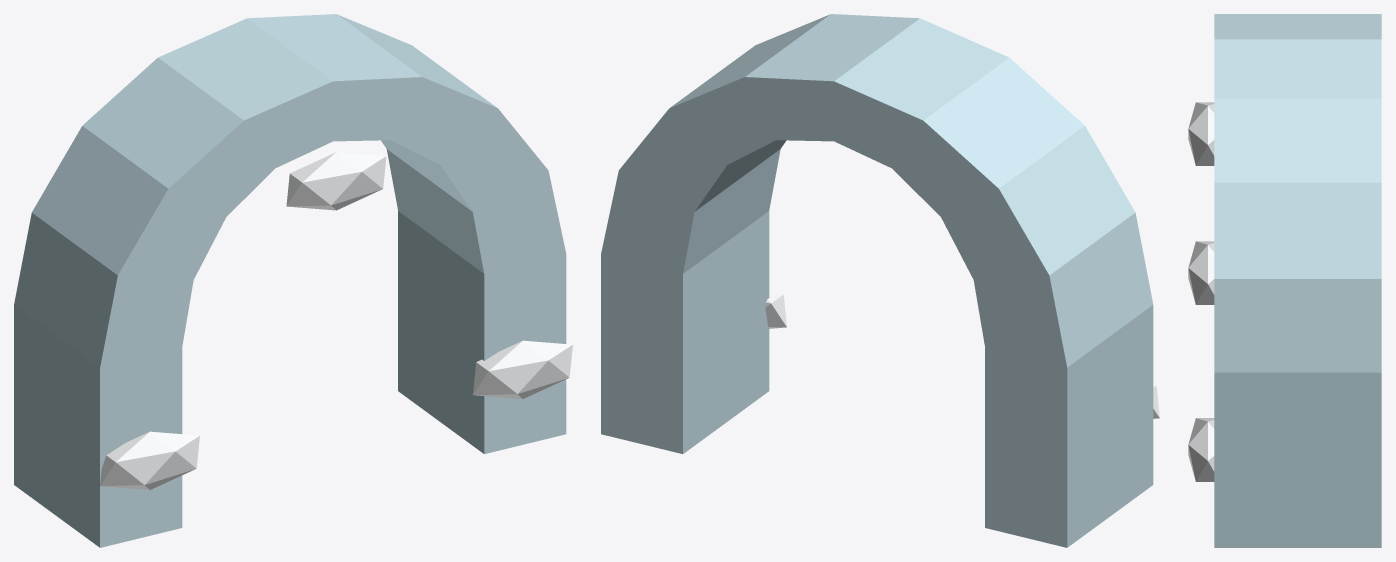
Rendered from fjord_arch_near-CqOgUgjF.glb.
The picture shows the model from 3 angles, left to right: view 1: azimuth 30°, elevation 25°; view 2: azimuth 150°, elevation 25°; view 3: azimuth 270°, elevation 25°; orthographic projection. The views are drawn at different scales.
Parts seen in each view (by area): view 1: fjord_arch_near; view 2: fjord_arch_near; view 3: fjord_arch_near.
Part boxes in pixels (left/top/right/bottom): fjord_arch_near: left=14, top=14, right=572, bottom=547; fjord_arch_near: left=601, top=14, right=1159, bottom=547; fjord_arch_near: left=1188, top=14, right=1381, bottom=547.
Size of the model in its own units: 12.68 by 10.5 by 4.62.
